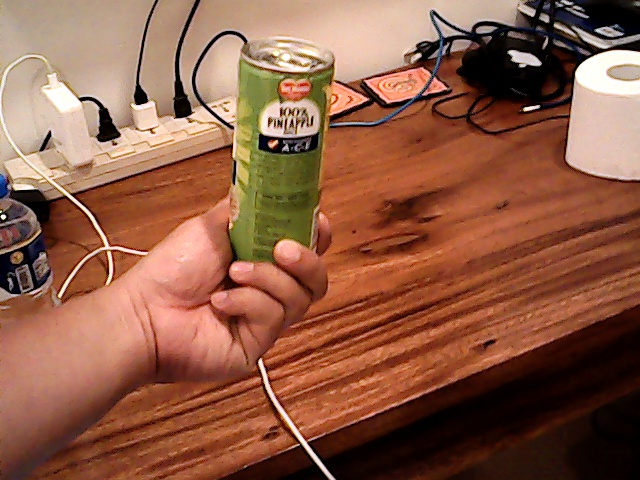Pine Juice: (224, 35, 339, 294)
